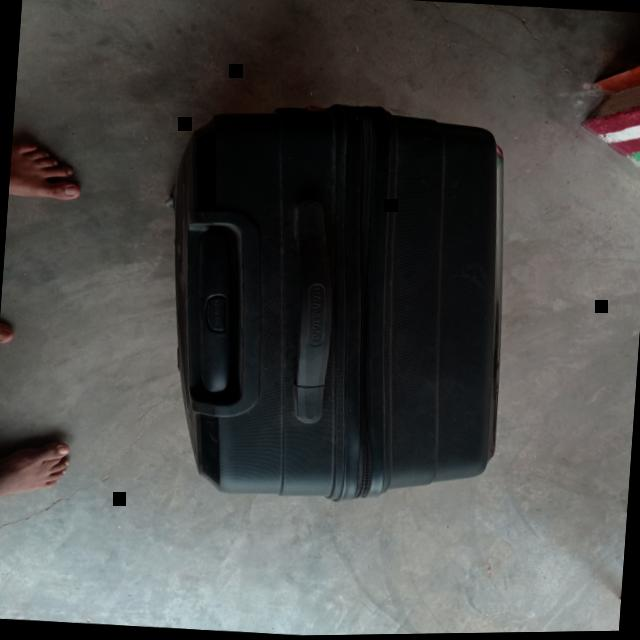luggage: (171, 107, 503, 504)
